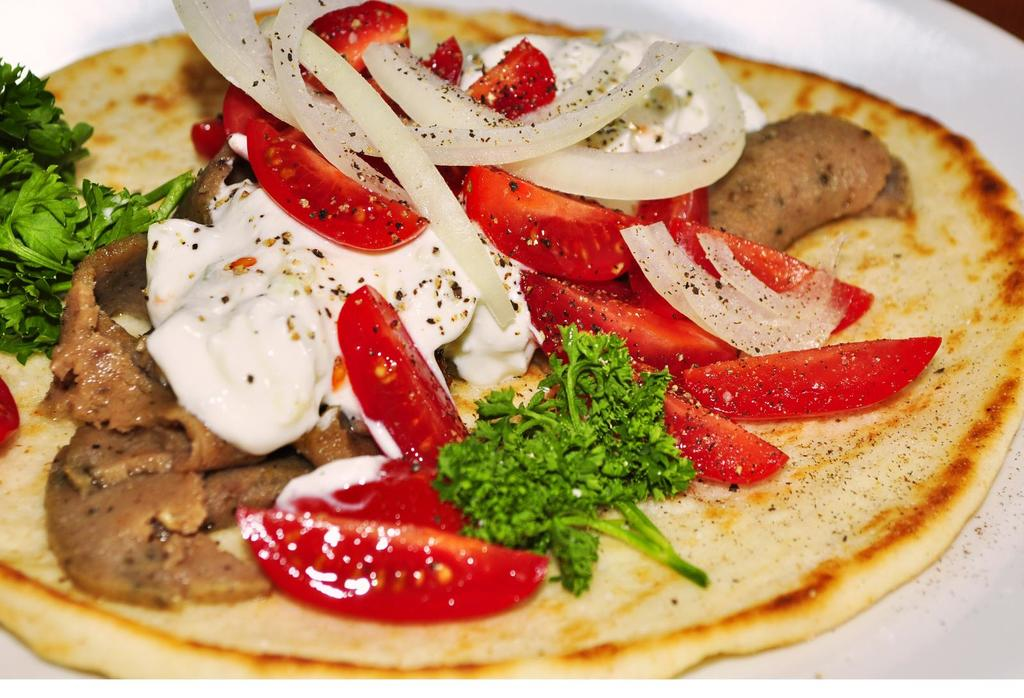Pizza: (4, 0, 1014, 683)
